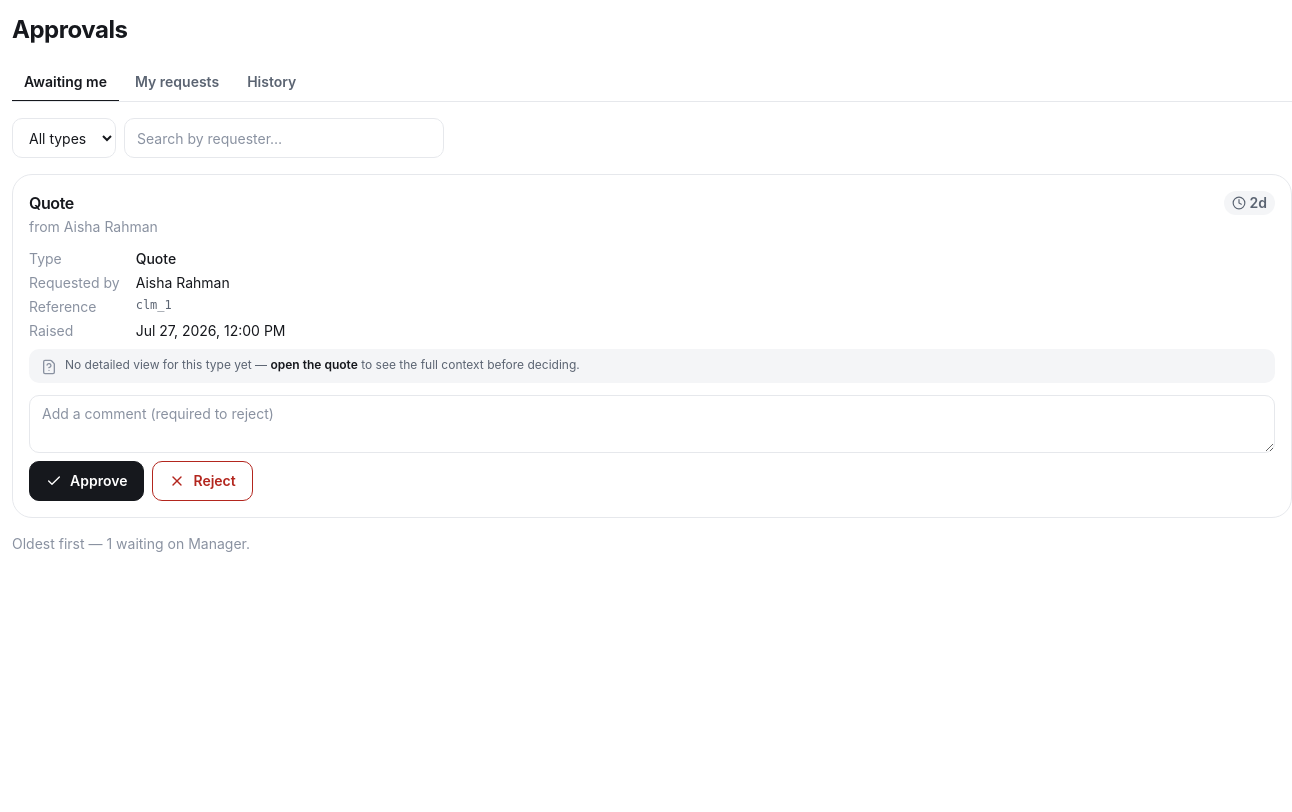
Test case: Awaiting me › removes the item immediately on approve
Check: the text "clm_1" is shown, box [136, 298, 172, 312]
Click the button "Approve".
click(87, 481)  # box [29, 461, 144, 501]
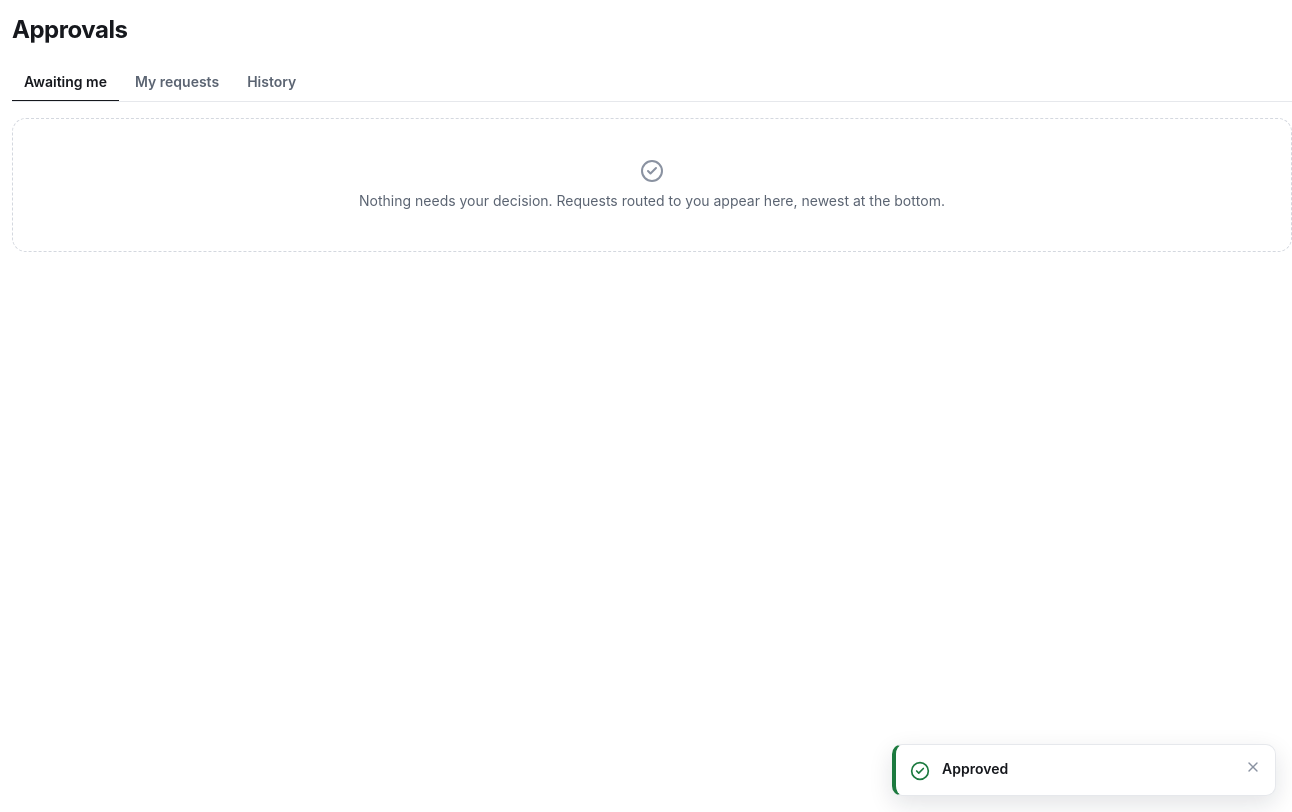
Check: the text "clm_1" is gone
